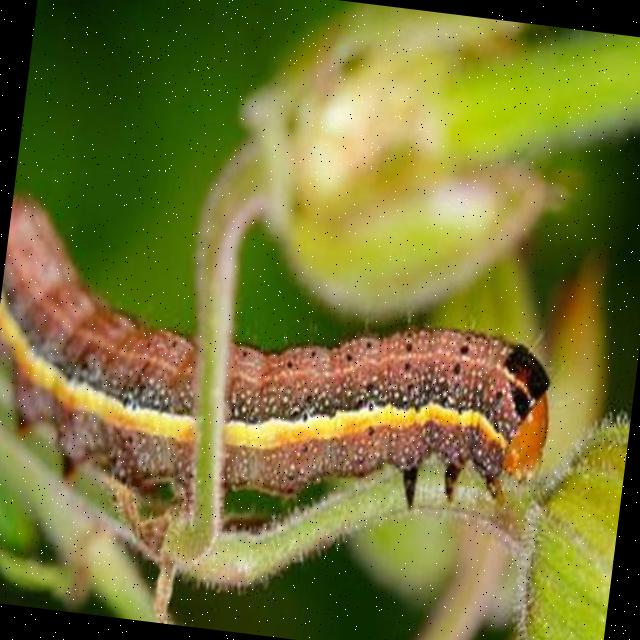worm: (1, 195, 570, 550)
